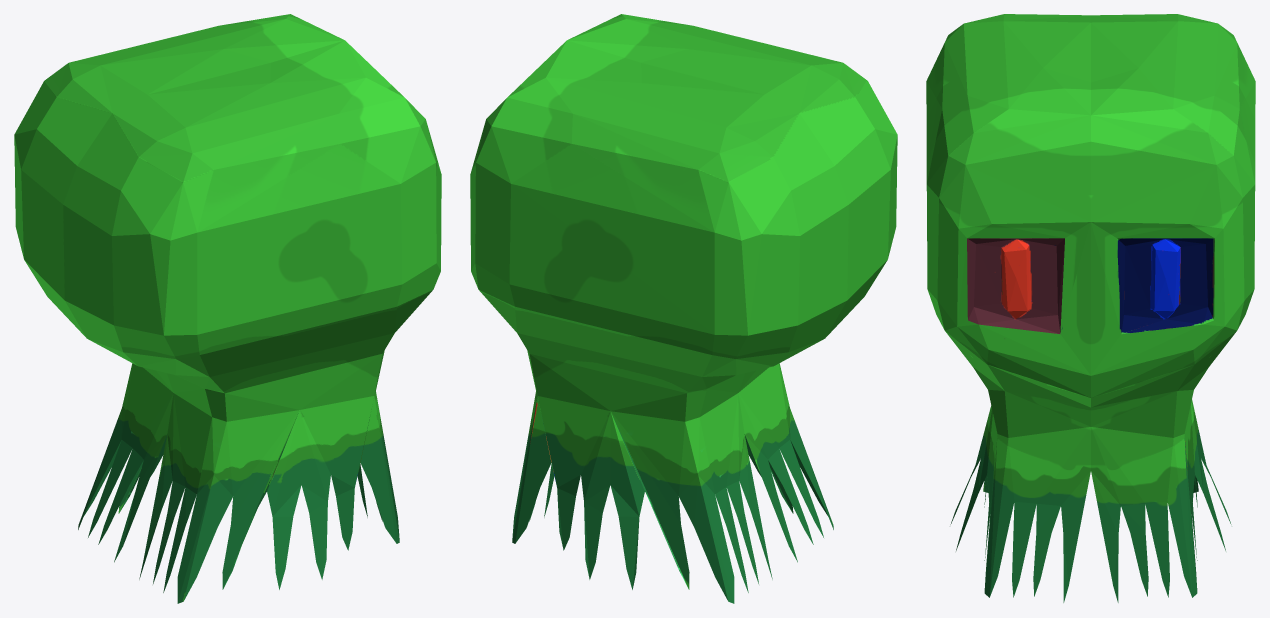
File: Bicho saltarin.fbx
The picture shows the model from 3 angles, left to right: view 1: azimuth 30°, elevation 25°; view 2: azimuth 150°, elevation 25°; view 3: azimuth 270°, elevation 25°; orthographic projection. The views are drawn at different scales.
Parts seen in each view (by area): view 1: Saltarin; view 2: Saltarin; view 3: Saltarin.
Boxes of the visible parts, x1,y1,x2,y2 form: Saltarin: (14, 14, 441, 603); Saltarin: (470, 14, 897, 603); Saltarin: (926, 14, 1255, 602).
Size of the model in its own units: 399 by 572 by 347.
Materials: 1 (1 with a texture image).
